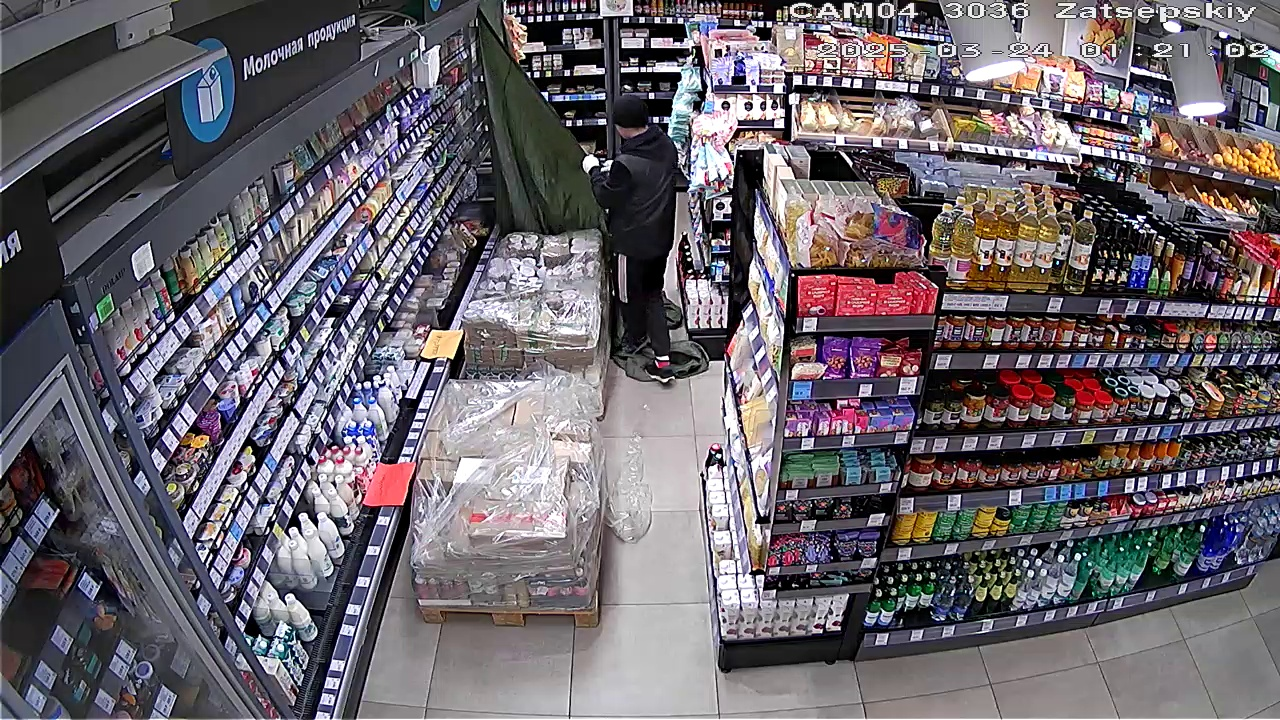Human: (578, 84, 675, 384)
pallet: (409, 372, 604, 626), (466, 223, 602, 369)
